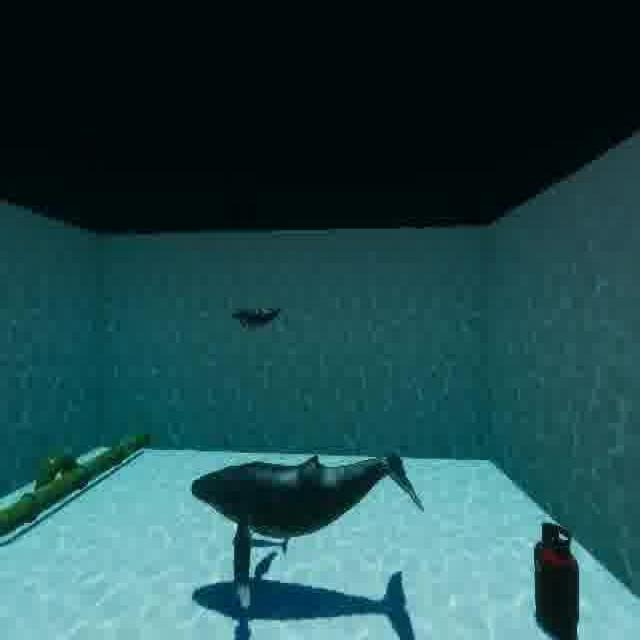Cylinder: (527, 507, 588, 640)
Pipe: (0, 404, 153, 550)
Whale: (179, 439, 441, 620), (215, 290, 293, 344)
